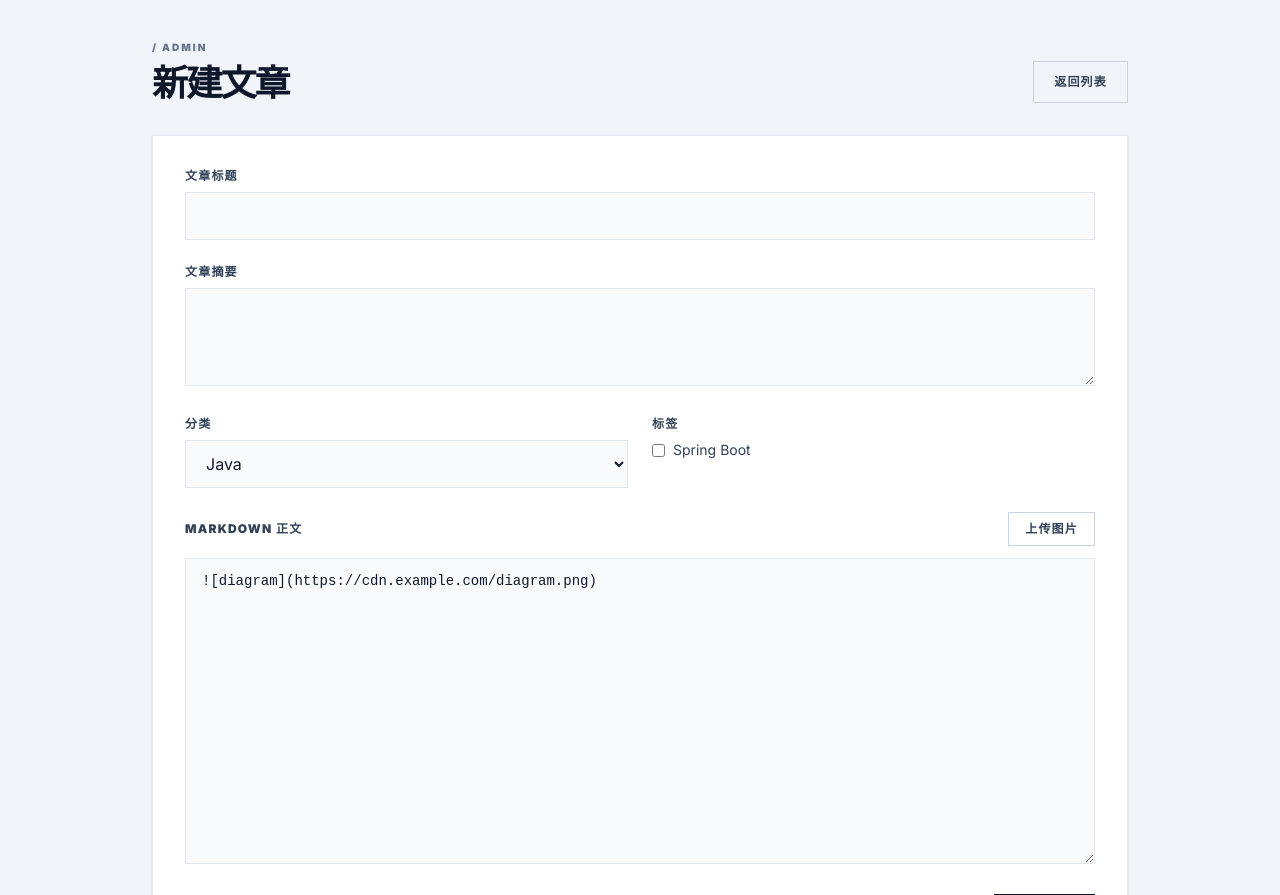
Test: AdminPostCreate page › creates post and redirects to admin posts
Earlier steps of the test are not shown.
Later steps or results of the test are not shown.
Expected: the text box labelled "Markdown 正文" holds "![diagram](https://cdn.example.com/diagram.png)", [185,558,1095,864]
Type "Spring Boot Notes" into the field labelled "文章标题" at (640, 216), box [185,192,1095,240]
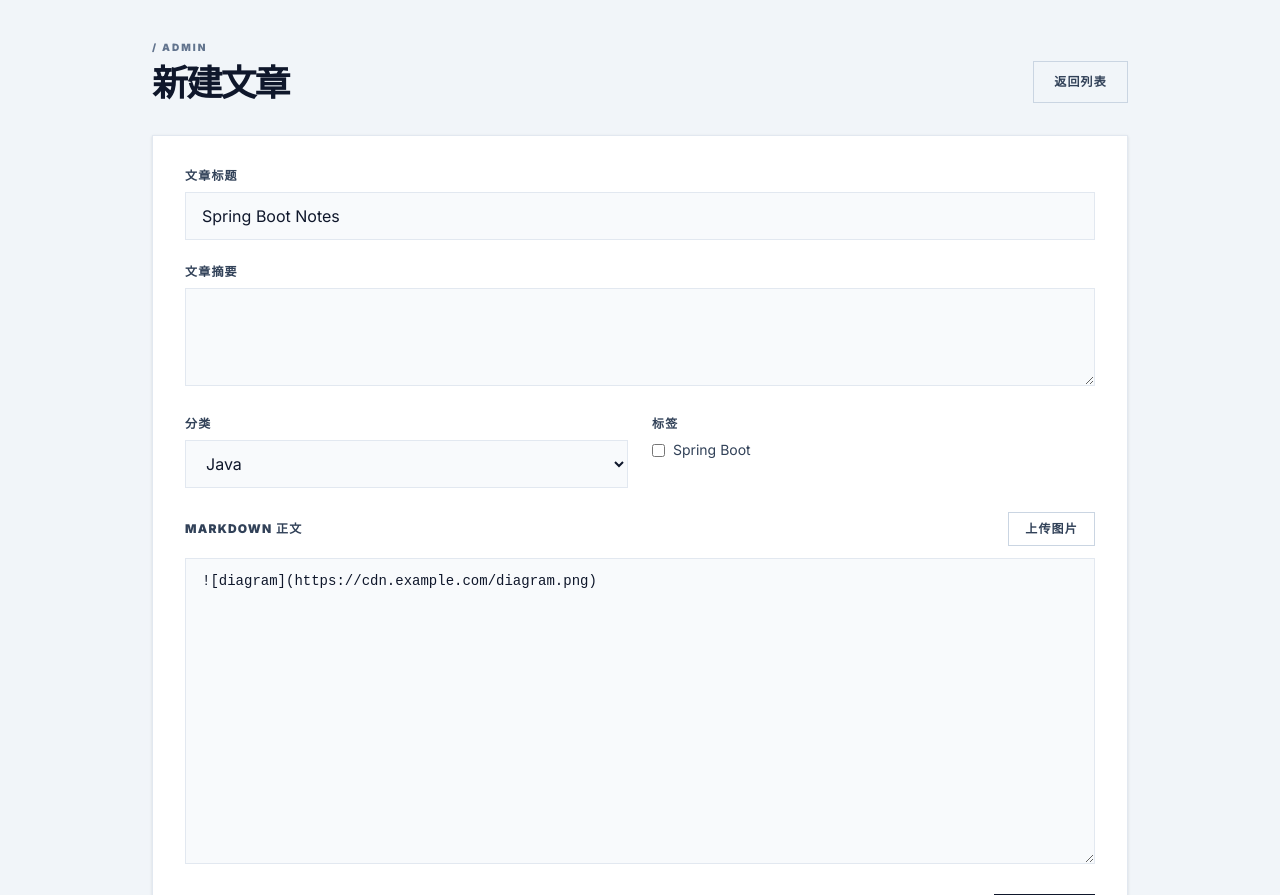
Type "Summary" into the text box labelled "文章摘要" at (640, 337), box [185,288,1095,386]
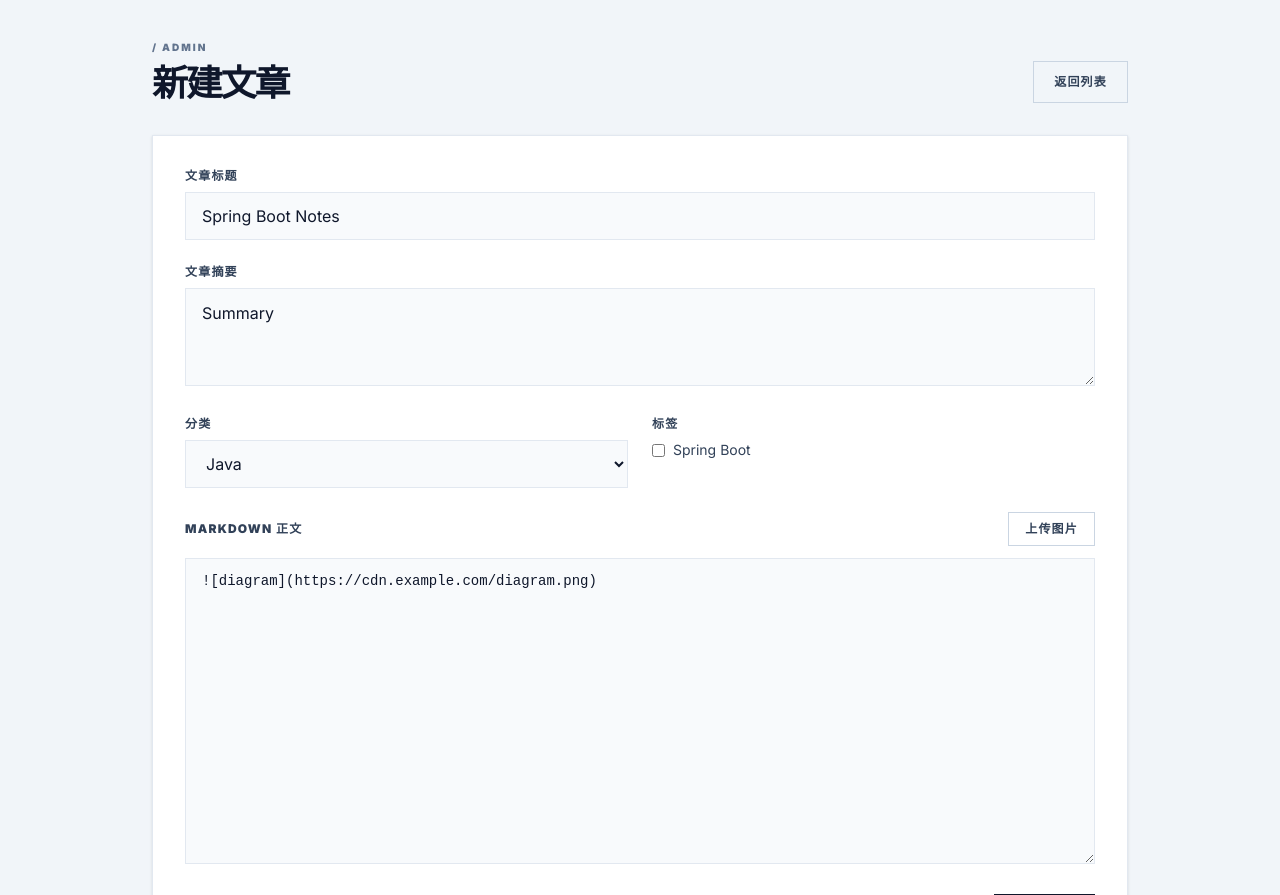
Select "Java" in the dropdown labelled "分类" at (406, 464), box [185,440,628,488]
Click the checkbox labelled "Spring Boot" at (658, 450), box [652,444,665,456]
(page scrolled)
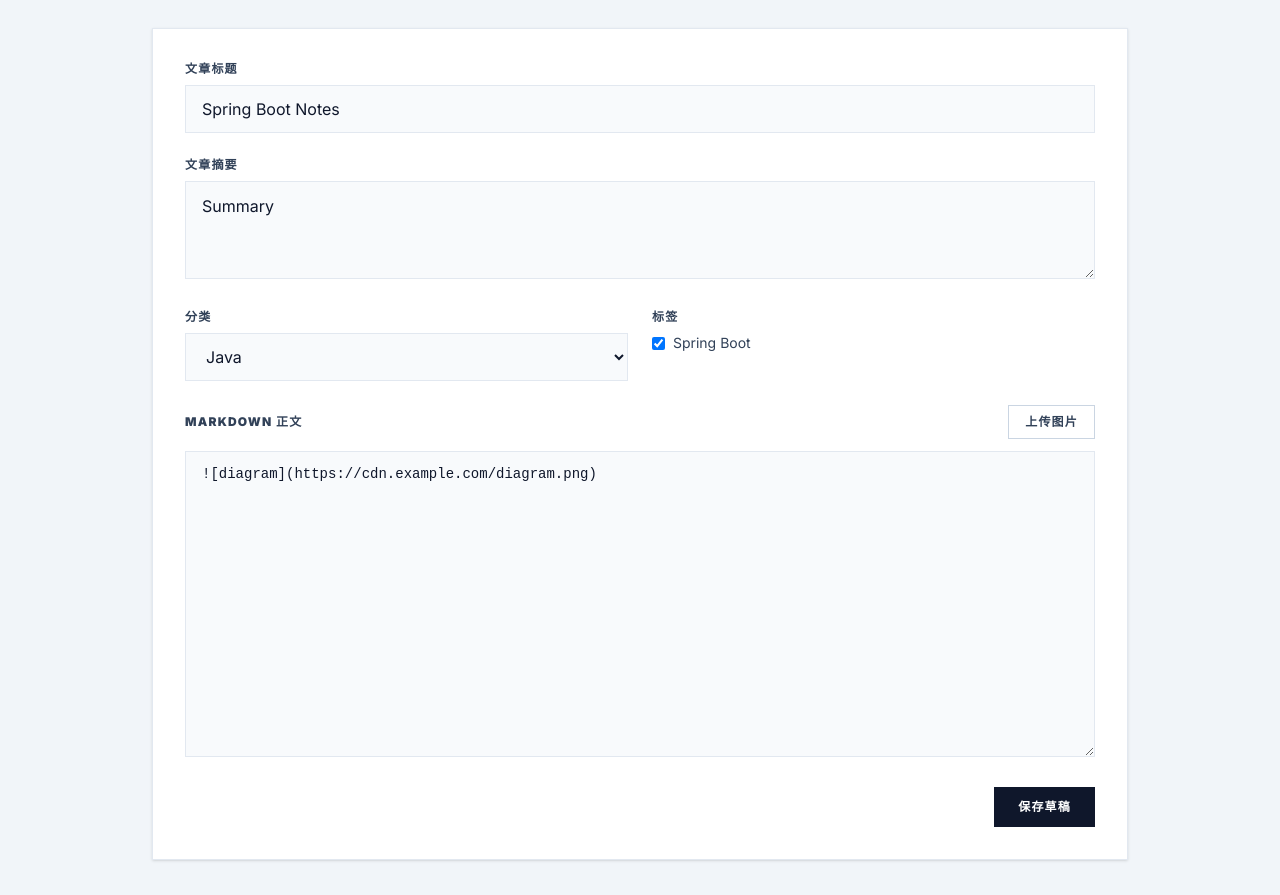
Click the button "保存草稿" at (1045, 807), box [994,787,1095,827]
(page scrolled)
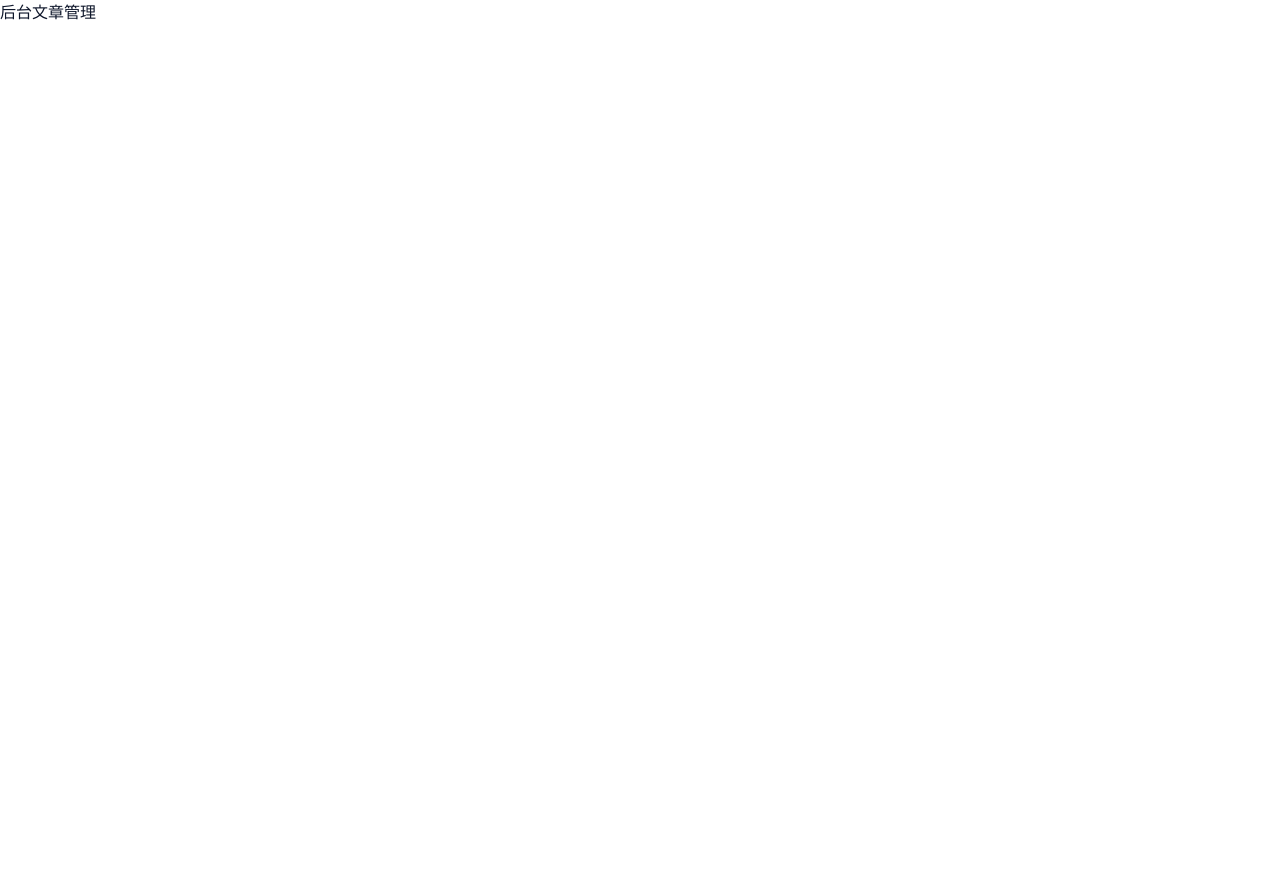
Now the text "后台文章管理" is shown, box [0,2,96,22]
